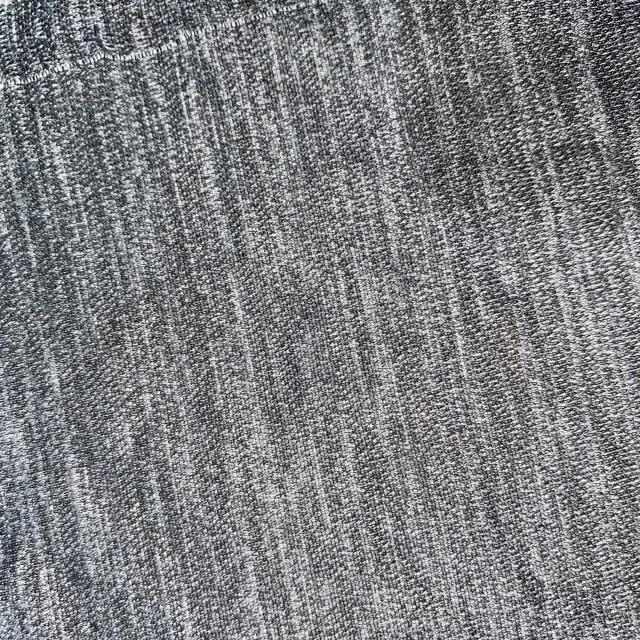Line: (1, 1, 332, 96)
